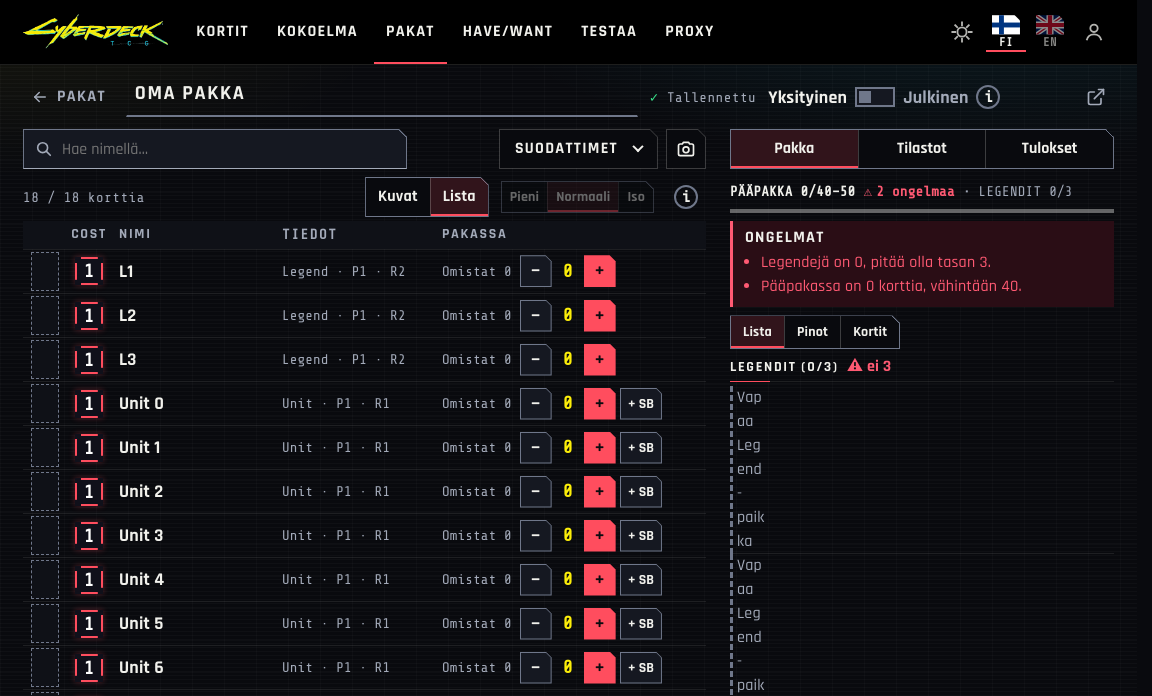
Scenario: Scanning into a deck (T-119) › offers the deck choices with the deck name, defaulting to the main deck and deck only
What coordinates should you click on to do the following:
click the button named "Skannaa kortteja pakkaan"
I would click on:
 (686, 149)
Its box is [666,129,706,169].
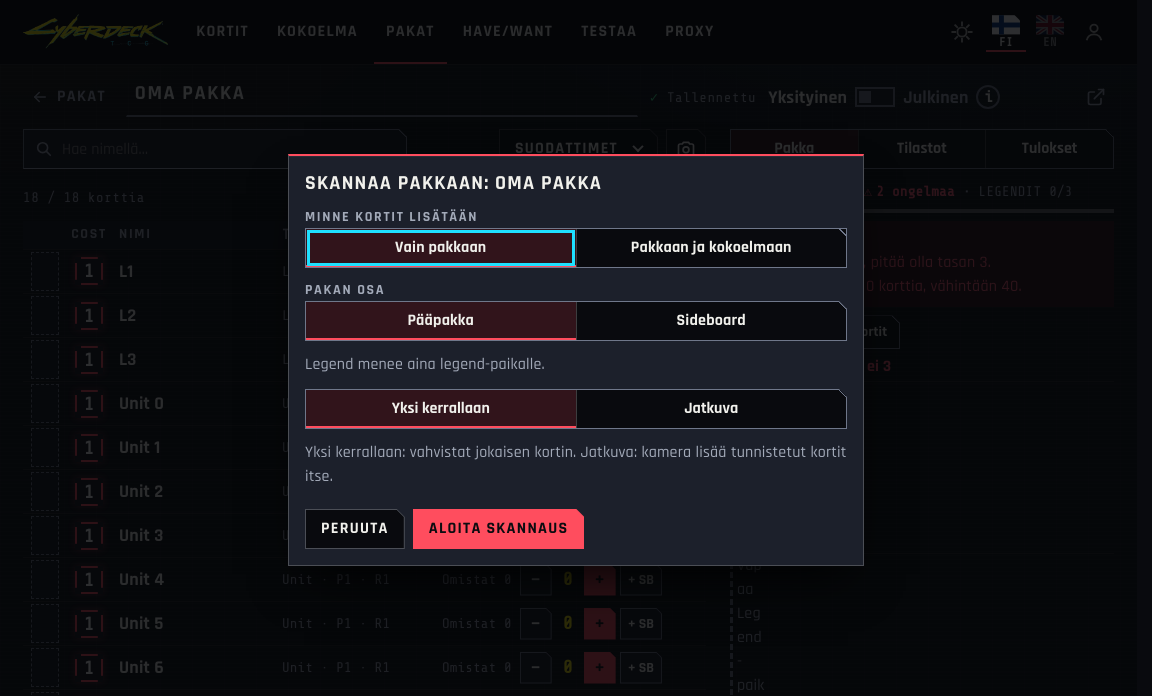
Result: the heading "Skannaa pakkaan: Oma pakka" is shown at [305,170,602,196]
Result: the radio button labelled "Vain pakkaan" is checked at [306,229,576,267]
Result: the radio button labelled "Pääpakka" is checked at [306,302,576,340]
